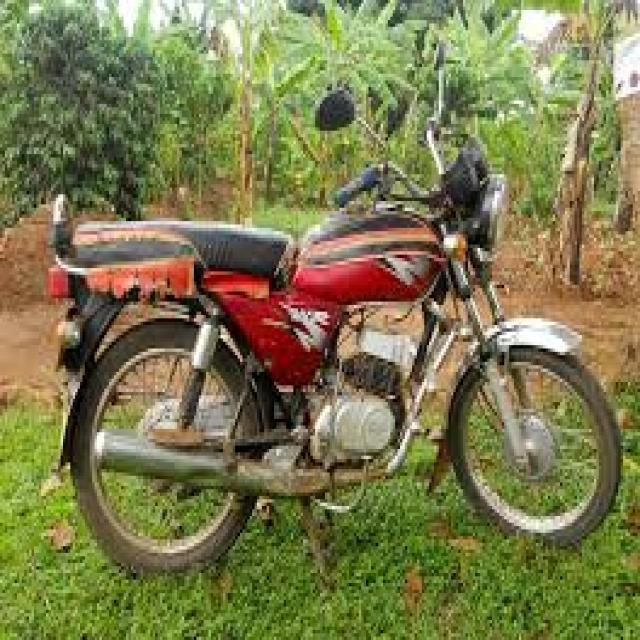bodaboda: (8, 24, 630, 598)
